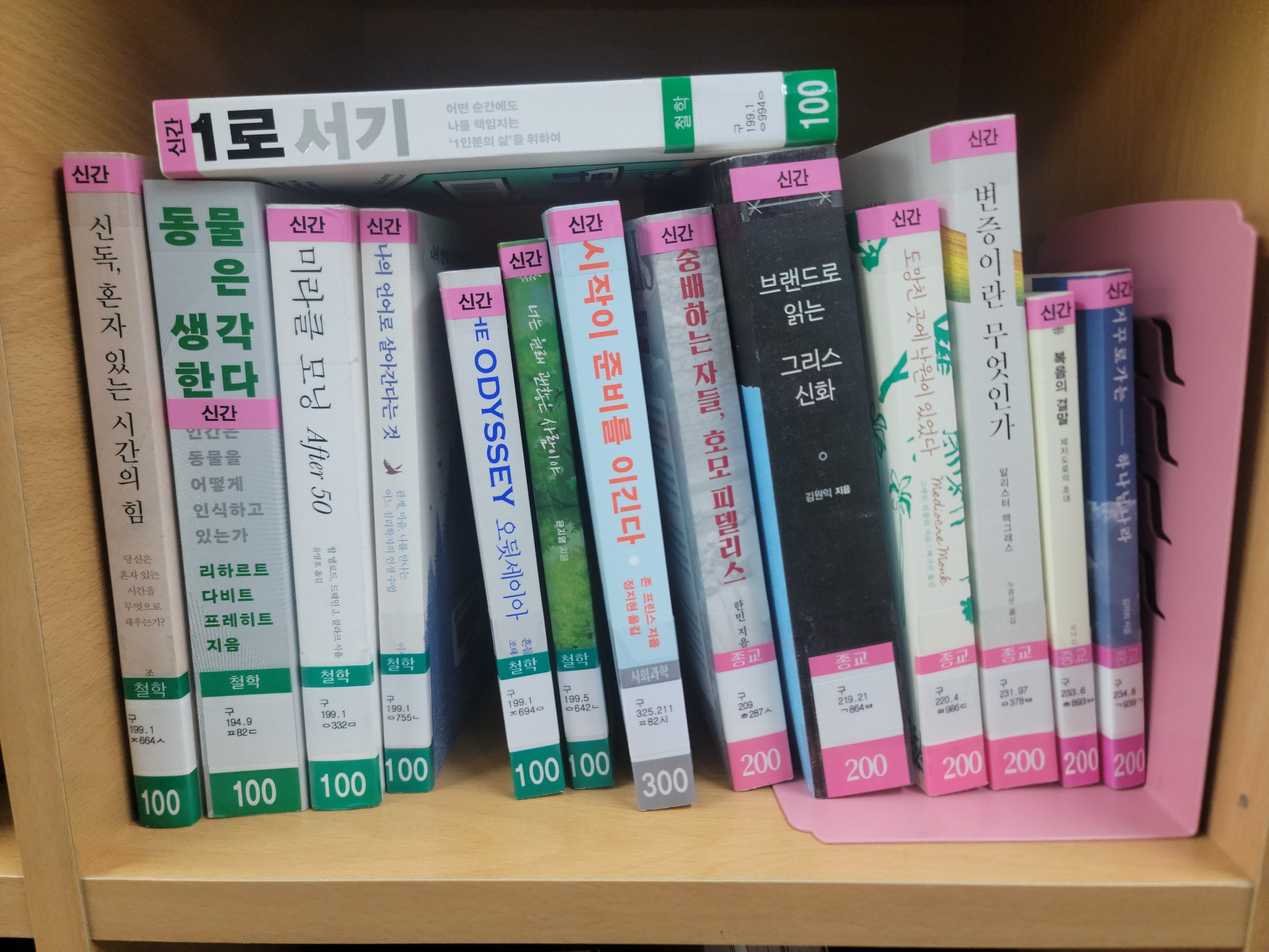book-spine: (729, 140, 914, 801), (142, 179, 305, 819), (60, 152, 197, 829), (552, 198, 698, 814), (646, 205, 795, 797), (856, 196, 989, 798), (949, 114, 1058, 791), (145, 68, 838, 173), (439, 263, 568, 803), (265, 205, 379, 813), (499, 241, 617, 803), (357, 209, 433, 809), (1028, 295, 1100, 789), (1098, 270, 1146, 791)
